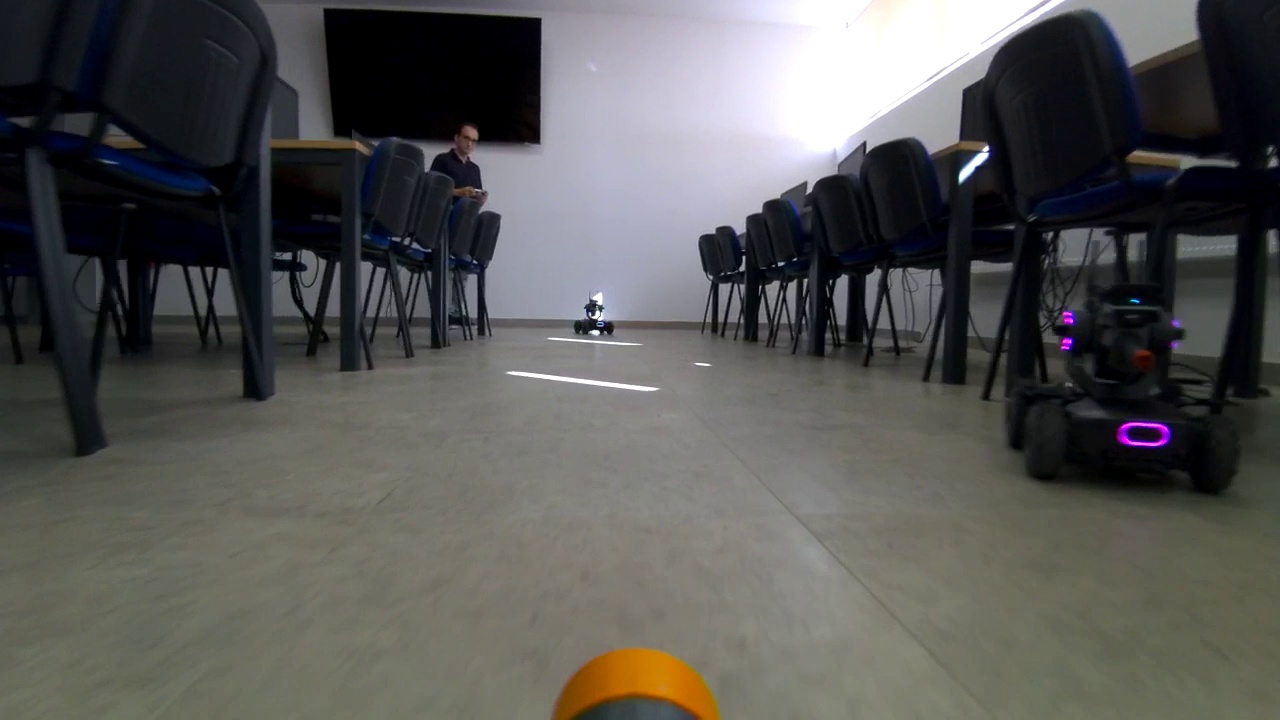robot: (1030, 283, 1230, 491), (568, 293, 617, 341)
